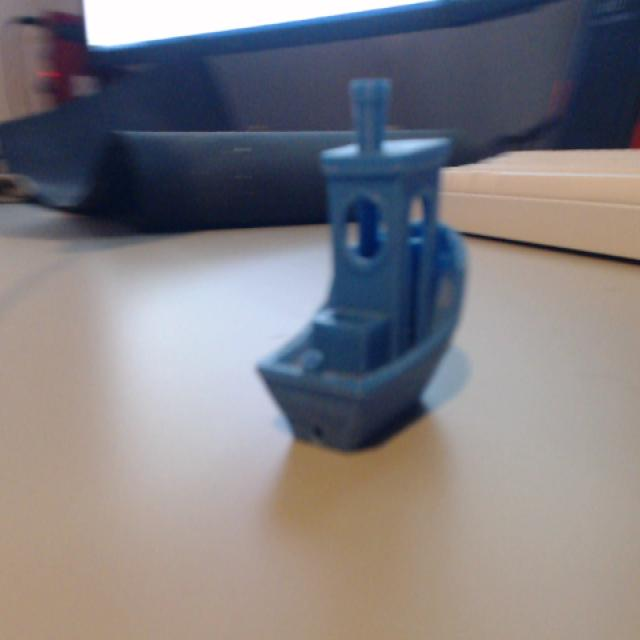benchy: (253, 72, 471, 452)
